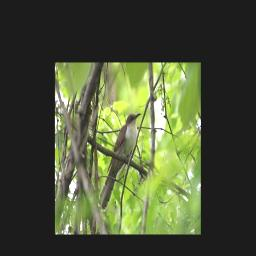Cuckoo: (98, 110, 142, 212)
